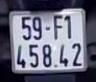1: (63, 13, 75, 41)
2: (70, 39, 84, 68)
4: (57, 41, 69, 68), (16, 43, 27, 70)
5: (27, 43, 41, 68), (21, 14, 32, 41)
8: (41, 42, 54, 69)
9: (32, 16, 42, 41)
F: (51, 12, 64, 41)
